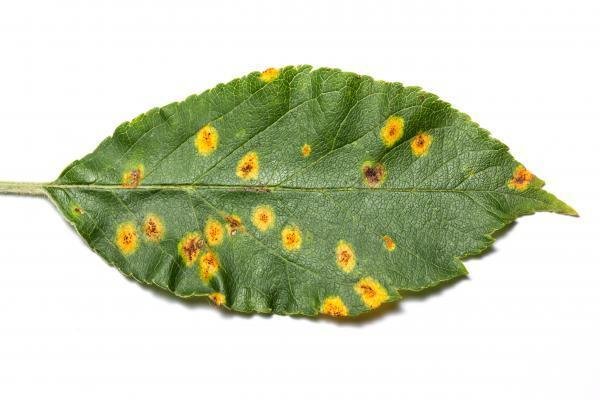Apple rust leaf: (41, 46, 600, 337)
